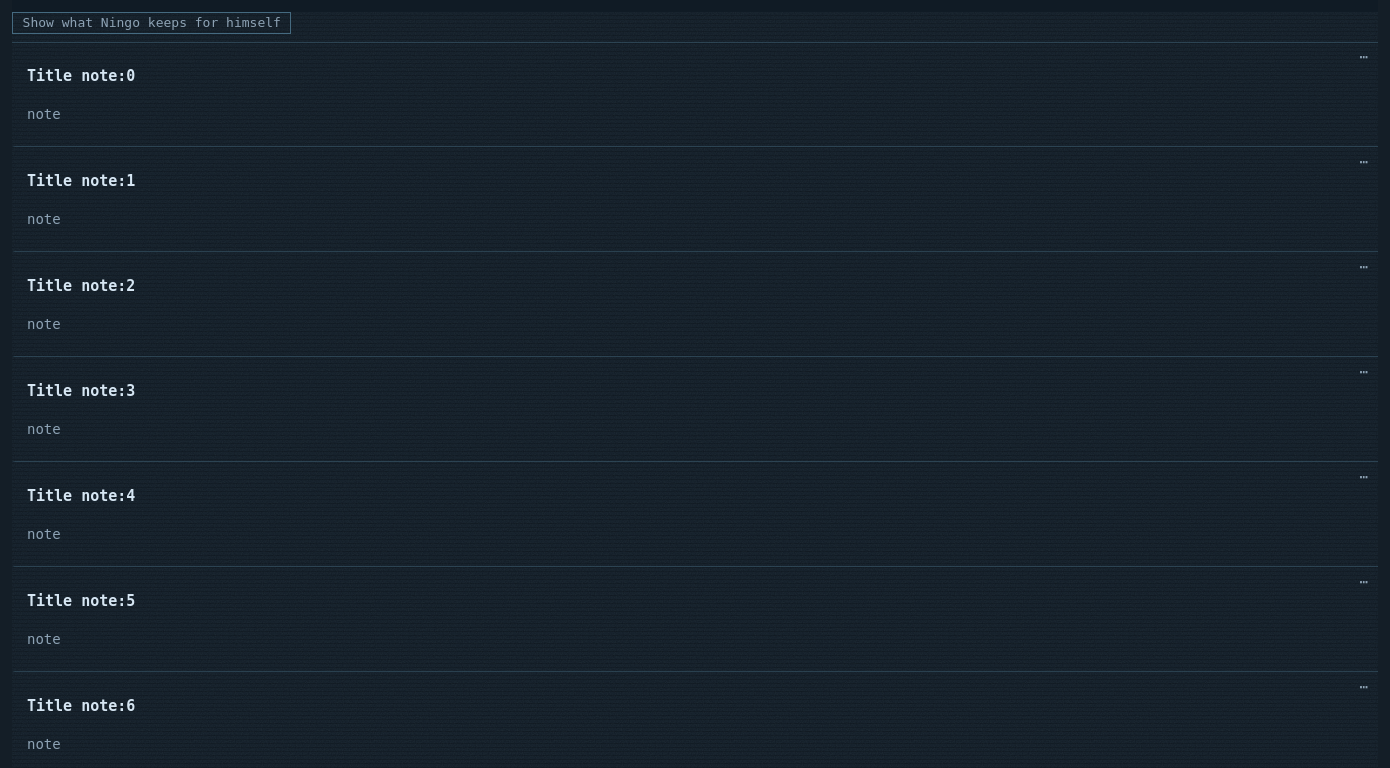
Test: document management › reports a deletion timeout without retrying or removing the displayed document
What coordinates should you click on to do the following:
click the 1st button "⋯"
I would click on:
 (1364, 57)
Its box is [1349, 47, 1378, 68].
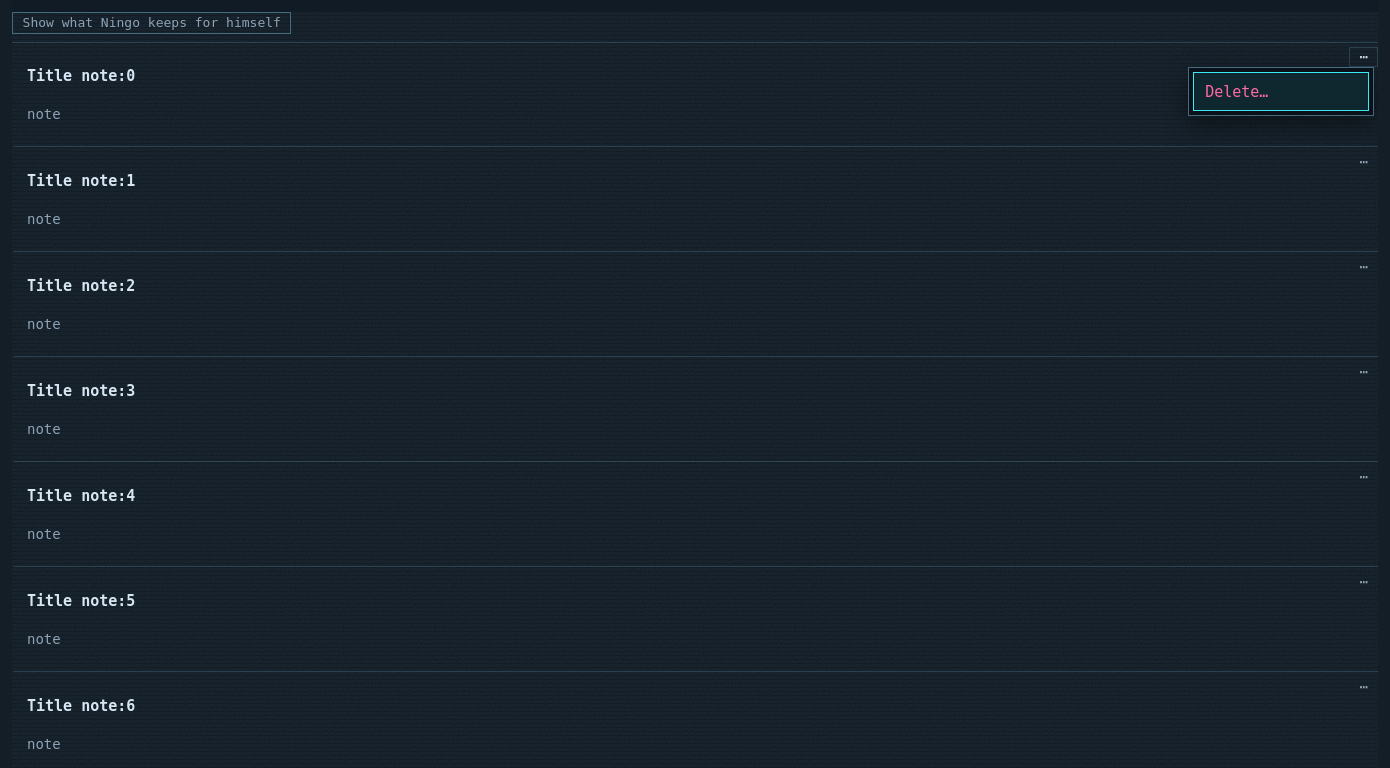
What coordinates should you click on to do the following:
click the menu item "Delete…"
I would click on:
 (1281, 92)
Its box is [1193, 72, 1369, 111].
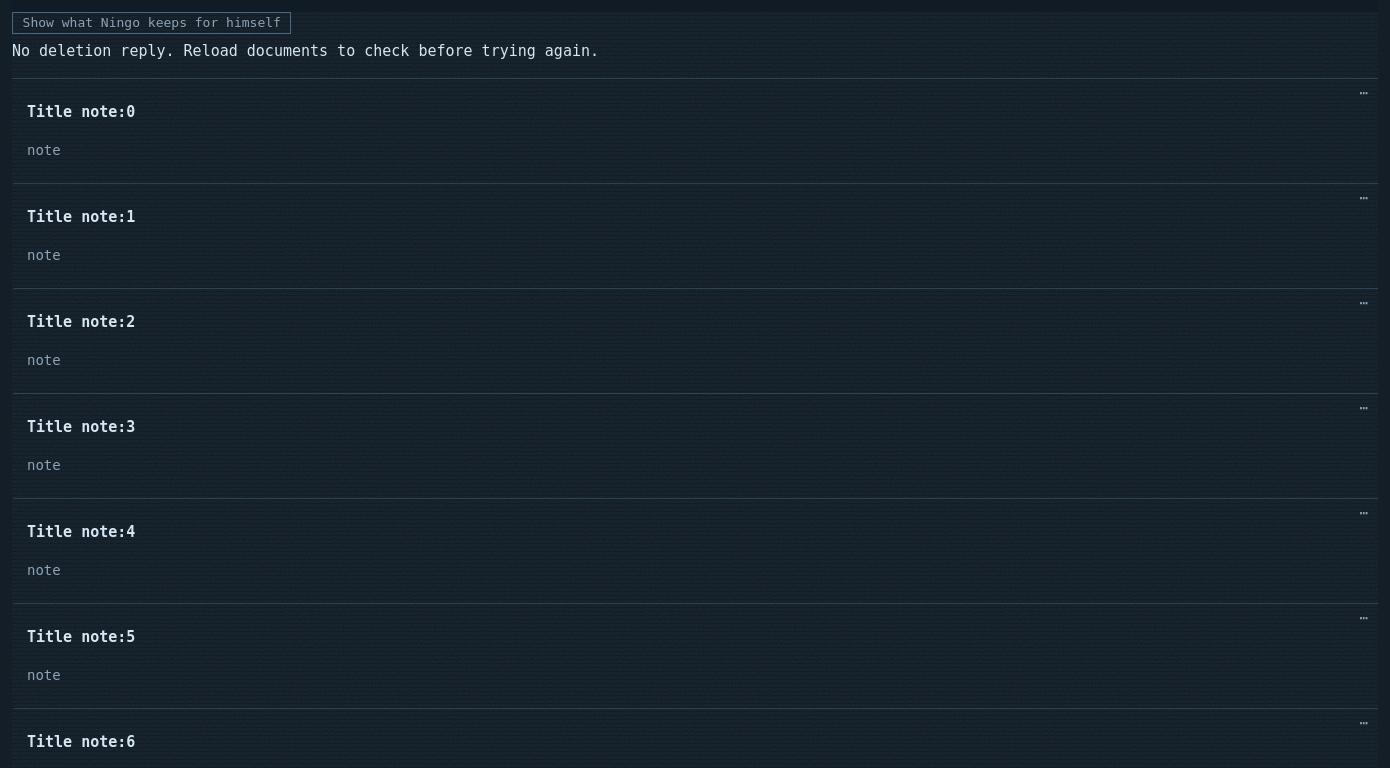
Expected: the text "Title note:0" is shown, [27, 104, 135, 122]
Expected: the message shows "Reload documents to check", [12, 42, 599, 60]
